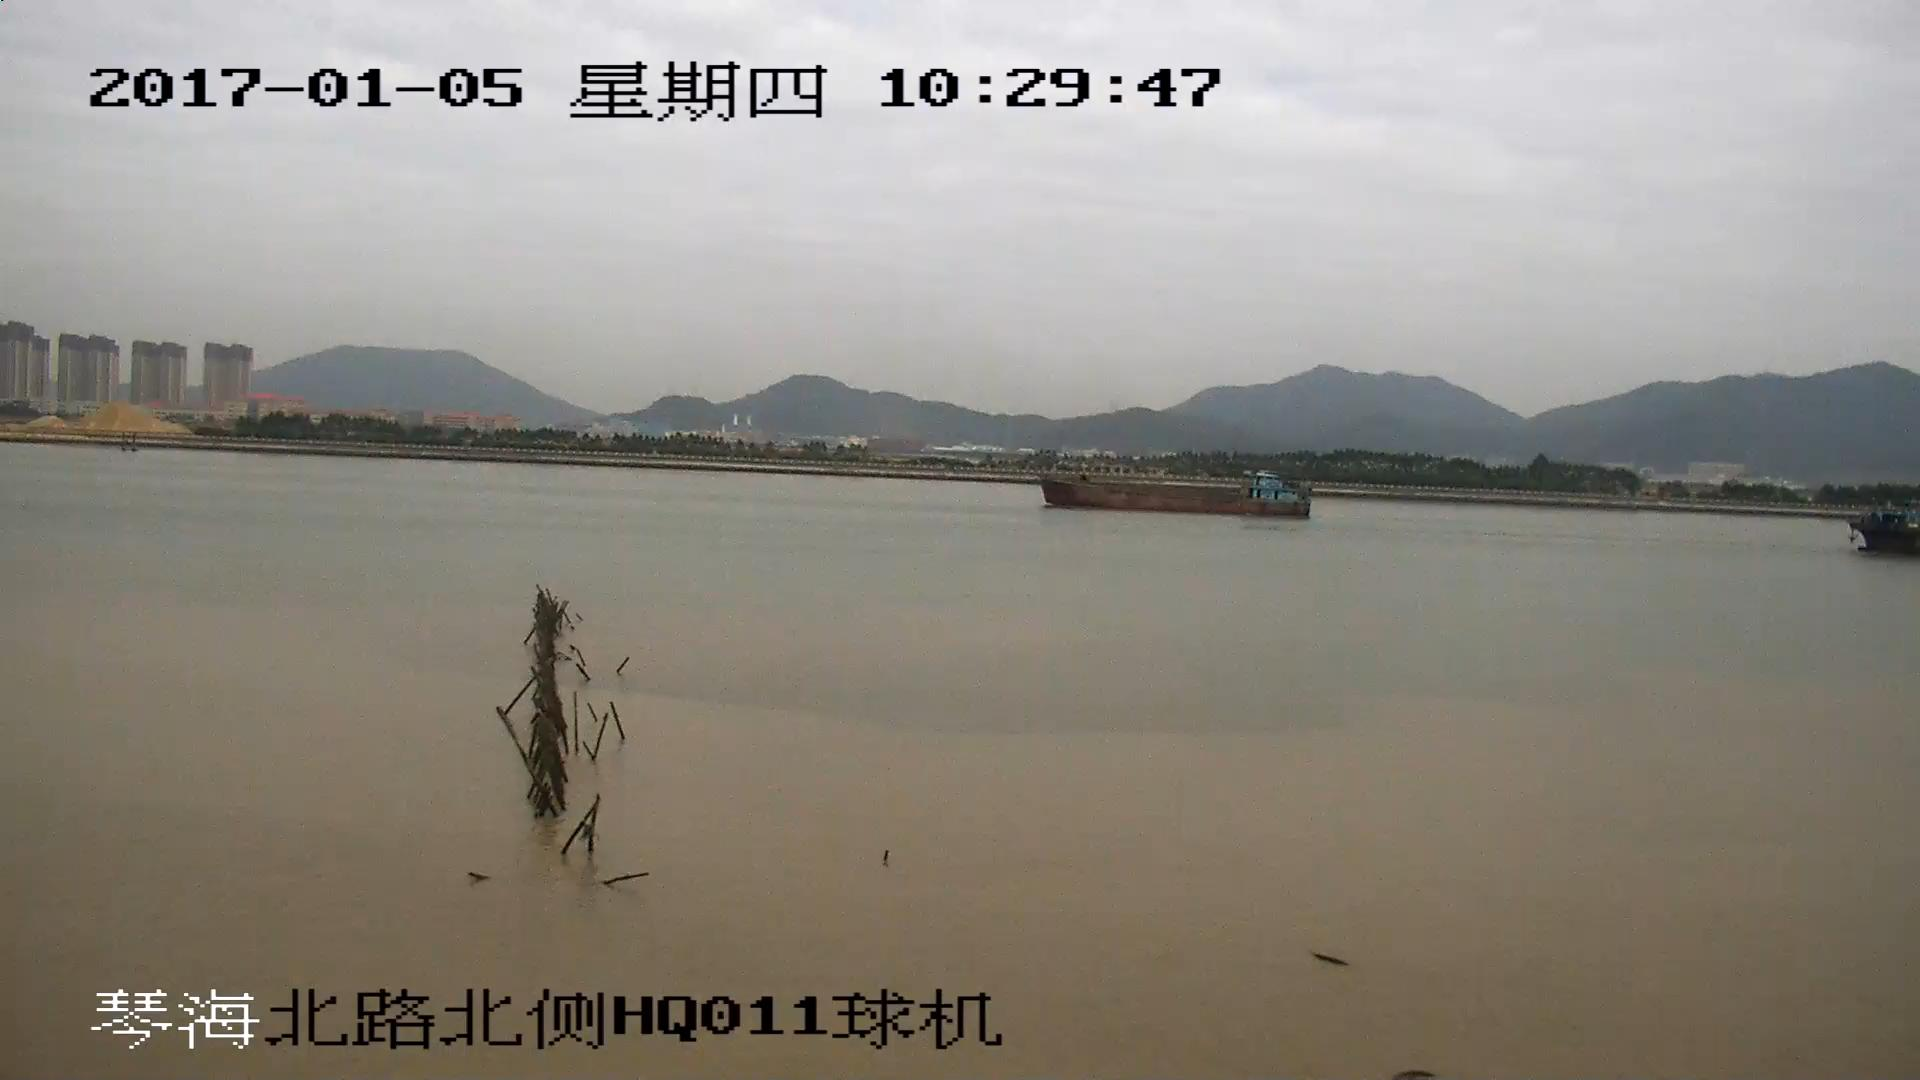bulk cargo carrier: (1040, 466, 1313, 520)
